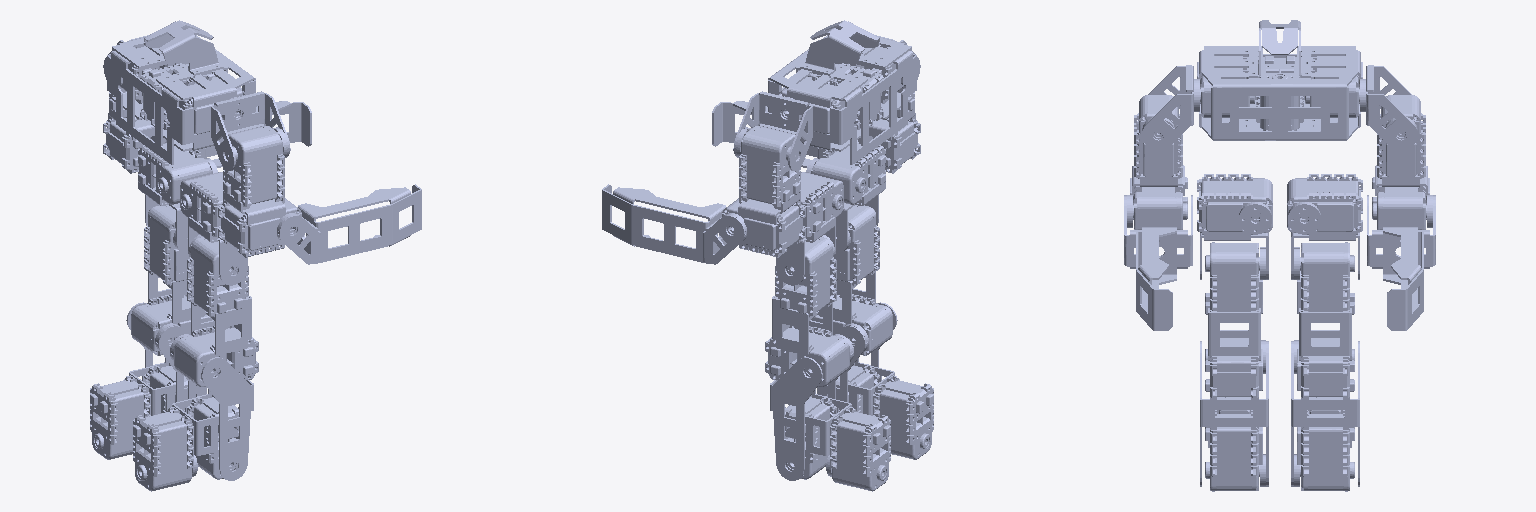
--- What the picture shows (computed from the rendered views, not written in the file) ---
Views: 3 orthographic renders of the robot side by side, from view 1: azimuth 30°, elevation 25°; view 2: azimuth 150°, elevation 25°; view 3: azimuth 270°, elevation 25°.
Robot: bioloid_gp2 — 18 links, 17 joints (17 continuous); root link base_link; default pose: every joint at zero.
Visible links, largest first — view 1: base_link, right_leg_link_2, right_arm_link_2, right_leg_link_4, right_arm_link_3, left_leg_link_2, left_leg_link_4, right_leg_link_3, left_leg_link_1, right_leg_link_1, right_arm_link_1, left_arm_link_2 (+2 smaller); view 2: base_link, left_leg_link_2, left_arm_link_2, left_leg_link_4, left_arm_link_3, right_leg_link_2, right_leg_link_4, left_leg_link_3, right_leg_link_1, left_leg_link_1, left_arm_link_1, right_arm_link_2 (+2 smaller); view 3: base_link, left_leg_link_2, right_leg_link_2, right_arm_link_2, left_arm_link_2, right_leg_link_1, left_leg_link_1, left_arm_link_3, right_arm_link_3, right_leg_link_4, left_leg_link_4, right_arm_link_1 (+3 smaller).
Boxes of the visible links, left/top/right/bottom form: base_link: left=107, top=20, right=255, bottom=164; right_leg_link_2: left=171, top=235, right=258, bottom=386; right_arm_link_2: left=218, top=126, right=301, bottom=257; right_leg_link_4: left=133, top=395, right=238, bottom=491; right_arm_link_3: left=278, top=184, right=421, bottom=264; left_leg_link_2: left=131, top=205, right=212, bottom=355; left_leg_link_4: left=90, top=363, right=187, bottom=459; right_leg_link_3: left=170, top=334, right=253, bottom=480; left_leg_link_1: left=138, top=143, right=217, bottom=253; right_leg_link_1: left=180, top=172, right=247, bottom=285; right_arm_link_1: left=211, top=91, right=289, bottom=170; left_arm_link_2: left=103, top=92, right=165, bottom=173; base_link: left=768, top=20, right=916, bottom=164; left_leg_link_2: left=765, top=235, right=852, bottom=386; left_arm_link_2: left=722, top=126, right=805, bottom=257; left_leg_link_4: left=785, top=395, right=890, bottom=491; left_arm_link_3: left=602, top=184, right=745, bottom=264; right_leg_link_2: left=811, top=205, right=892, bottom=355; right_leg_link_4: left=836, top=363, right=933, bottom=459; left_leg_link_3: left=770, top=334, right=853, bottom=480; right_leg_link_1: left=806, top=143, right=885, bottom=253; left_leg_link_1: left=776, top=172, right=843, bottom=285; left_arm_link_1: left=734, top=91, right=812, bottom=170; right_arm_link_2: left=858, top=92, right=920, bottom=173; base_link: left=1194, top=20, right=1365, bottom=140; left_leg_link_2: left=1294, top=242, right=1354, bottom=400; right_leg_link_2: left=1205, top=242, right=1265, bottom=400; right_arm_link_2: left=1127, top=95, right=1187, bottom=229; left_arm_link_2: left=1372, top=95, right=1432, bottom=229; right_leg_link_1: left=1197, top=174, right=1272, bottom=279; left_leg_link_1: left=1287, top=174, right=1362, bottom=279; left_arm_link_3: left=1367, top=195, right=1435, bottom=330; right_arm_link_3: left=1124, top=195, right=1192, bottom=330; right_leg_link_4: left=1205, top=397, right=1265, bottom=491; left_leg_link_4: left=1294, top=397, right=1354, bottom=491; right_arm_link_1: left=1142, top=65, right=1193, bottom=149.
Size in the robot's own frame: 0.1955 by 0.204 by 0.3281 metres.
15 mesh visuals loaded from 18 distinct referenced files (15 binary STL); not drawn: 3 (reference not matched to a file when rendering).

The robot description file, URDF, robot "bioloid_gp2":
<?xml version="1.0" encoding="utf-8"?>
<!-- This URDF was automatically created by SolidWorks to URDF Exporter! Originally created by Stephen Brawner ([email redacted]) 
     Commit Version: 1.5.1-0-g916b5db  Build Version: 1.5.7152.31018
     For more information, please see http://wiki.ros.org/sw_urdf_exporter -->
<robot
  name="bioloid_gp2">
  <link
    name="base_link">
    <inertial>
      <origin
        xyz="-0.00383149781672336 -8.90176803828094E-06 0.000985343148474867"
        rpy="0 0 0" />
      <mass
        value="0.154876147614574" />
      <inertia
        ixx="5.72237172613389E-05"
        ixy="-1.0416203519941E-08"
        ixz="-3.9259029824417E-07"
        iyy="4.7371081001121E-05"
        iyz="1.46730564833216E-09"
        izz="7.19614573061766E-05" />
    </inertial>
    <visual>
      <origin
        xyz="0 0 0"
        rpy="0 0 0" />
      <geometry>
        <mesh
          filename="package://bioloid_gp2/meshes/base_link.STL" />
      </geometry>
      <material
        name="">
        <color
          rgba="0.792156862745098 0.819607843137255 0.933333333333333 1" />
      </material>
    </visual>
    <collision>
      <origin
        xyz="0 0 0"
        rpy="0 0 0" />
      <geometry>
        <mesh
          filename="package://bioloid_gp2/meshes/base_link.STL" />
      </geometry>
    </collision>
  </link>
  <link
    name="right_arm_link_1">
    <inertial>
      <origin
        xyz="-6.07043906669658E-08 -0.00923206723925007 0.00517864249850522"
        rpy="0 0 0" />
      <mass
        value="0.00402029367652139" />
      <inertia
        ixx="8.53462226825597E-07"
        ixy="1.70481192756118E-12"
        ixz="-1.05162131712554E-12"
        iyy="1.77130321667596E-06"
        iyz="2.51193243950453E-07"
        izz="1.69099459342747E-06" />
    </inertial>
    <visual>
      <origin
        xyz="0 0 0"
        rpy="0 0 0" />
      <geometry>
        <mesh
          filename="package://bioloid_gp2/meshes/right_arm_link_1.STL" />
      </geometry>
      <material
        name="">
        <color
          rgba="0.792156862745098 0.819607843137255 0.933333333333333 1" />
      </material>
    </visual>
    <collision>
      <origin
        xyz="0 0 0"
        rpy="0 0 0" />
      <geometry>
        <mesh
          filename="package://bioloid_gp2/meshes/right_arm_link_1.STL" />
      </geometry>
    </collision>
  </link>
  <joint
    name="joint_1"
    type="continuous">
    <origin
      xyz="0.00875 -0.05649 0.00275"
      rpy="3.1416 0 3.1416" />
    <parent
      link="base_link" />
    <child
      link="right_arm_link_1" />
    <axis
      xyz="0 1 0" />
    <safety_controller
      k_velocity="0" />
  </joint>
  <link
    name="right_arm_link_2">
    <inertial>
      <origin
        xyz="-0.000528170386428509 -0.0352518252774792 0.00311828556966413"
        rpy="0 0 0" />
      <mass
        value="0.0866430294972451" />
      <inertia
        ixx="2.18652500161555E-05"
        ixy="-8.94831167760345E-09"
        ixz="-1.89458955070911E-07"
        iyy="1.84666066901423E-05"
        iyz="2.01342587194597E-07"
        izz="1.66635512730656E-05" />
    </inertial>
    <visual>
      <origin
        xyz="0 0 0"
        rpy="0 0 0" />
      <geometry>
        <mesh
          filename="package://bioloid_gp2/meshes/right_arm_link_2.STL" />
      </geometry>
      <material
        name="">
        <color
          rgba="0.792156862745098 0.819607843137255 0.933333333333333 1" />
      </material>
    </visual>
    <collision>
      <origin
        xyz="0 0 0"
        rpy="0 0 0" />
      <geometry>
        <mesh
          filename="package://bioloid_gp2/meshes/right_arm_link_2.STL" />
      </geometry>
    </collision>
  </link>
  <joint
    name="joint_3"
    type="continuous">
    <origin
      xyz="0 -0.02301 0.018"
      rpy="-1.5708 0 1.5708" />
    <parent
      link="right_arm_link_1" />
    <child
      link="right_arm_link_2" />
    <axis
      xyz="0 0 1" />
    <safety_controller
      k_velocity="0" />
  </joint>
  <link
    name="right_arm_link_3">
    <inertial>
      <origin
        xyz="0.00415752095634411 0.0477168328995842 -0.01632646307713"
        rpy="0 0 0" />
      <mass
        value="0.0124405169193281" />
      <inertia
        ixx="1.01511820933173E-05"
        ixy="-7.57219531539254E-09"
        ixz="-1.05248182571994E-12"
        iyy="3.65282468945606E-06"
        iyz="2.51193224626462E-07"
        izz="9.92898397139803E-06" />
    </inertial>
    <visual>
      <origin
        xyz="0 0 0"
        rpy="0 0 0" />
      <geometry>
        <mesh
          filename="package://bioloid_gp2/meshes/right_arm_link_3.STL" />
      </geometry>
      <material
        name="">
        <color
          rgba="0.792156862745098 0.819607843137255 0.933333333333333 1" />
      </material>
    </visual>
    <collision>
      <origin
        xyz="0 0 0"
        rpy="0 0 0" />
      <geometry>
        <mesh
          filename="package://bioloid_gp2/meshes/right_arm_link_3.STL" />
      </geometry>
    </collision>
  </link>
  <joint
    name="joint_5"
    type="continuous">
    <origin
      xyz="0 -0.0574 0.0182"
      rpy="1.5708 0 3.1416" />
    <parent
      link="right_arm_link_2" />
    <child
      link="right_arm_link_3" />
    <axis
      xyz="1 0 0" />
    <safety_controller
      k_velocity="0" />
  </joint>
  <link
    name="left_arm_link_1">
    <inertial>
      <origin
        xyz="-6.07043893208203E-08 -0.00923206723925157 0.00517864249850554"
        rpy="0 0 0" />
      <mass
        value="0.00402029367652142" />
      <inertia
        ixx="8.534622268256E-07"
        ixy="1.70481192931295E-12"
        ixz="-1.05162131770511E-12"
        iyy="1.77130321667597E-06"
        iyz="2.51193243950455E-07"
        izz="1.69099459342748E-06" />
    </inertial>
    <visual>
      <origin
        xyz="0 0 0"
        rpy="0 0 0" />
      <geometry>
        <mesh
          filename="package://bioloid_gp2/meshes/left_arm_link_1.STL" />
      </geometry>
      <material
        name="">
        <color
          rgba="0.792156862745098 0.819607843137255 0.933333333333333 1" />
      </material>
    </visual>
    <collision>
      <origin
        xyz="0 0 0"
        rpy="0 0 0" />
      <geometry>
        <mesh
          filename="package://bioloid_gp2/meshes/left_arm_link_1.STL" />
      </geometry>
    </collision>
  </link>
  <joint
    name="joint_2"
    type="continuous">
    <origin
      xyz="0.00874999999999918 0.0564904194241643 0.00275"
      rpy="3.14159265358979 0 0" />
    <parent
      link="base_link" />
    <child
      link="left_arm_link_1" />
    <axis
      xyz="0 1 0" />
    <safety_controller
      k_velocity="0" />
  </joint>
  <link
    name="left_arm_link_2">
    <inertial>
      <origin
        xyz="0.00049634853098135 -0.0352836471329275 0.00311828556966444"
        rpy="0 0 0" />
      <mass
        value="0.086643029497245" />
      <inertia
        ixx="2.18652500161555E-05"
        ixy="-8.94831167760709E-09"
        ixz="1.92394275517003E-07"
        iyy="1.84666066901423E-05"
        iyz="1.80510643393301E-07"
        izz="1.66635512730656E-05" />
    </inertial>
    <visual>
      <origin
        xyz="0 0 0"
        rpy="0 0 0" />
      <geometry>
        <mesh
          filename="package://bioloid_gp2/meshes/left_arm_link_2.STL" />
      </geometry>
      <material
        name="">
        <color
          rgba="0.792156862745098 0.819607843137255 0.933333333333333 1" />
      </material>
    </visual>
    <collision>
      <origin
        xyz="0 0 0"
        rpy="0 0 0" />
      <geometry>
        <mesh
          filename="package://bioloid_gp2/meshes/left_arm_link_2.STL" />
      </geometry>
    </collision>
  </link>
  <joint
    name="joint_4"
    type="continuous">
    <origin
      xyz="0 -0.0230095805758357 0.0179999999999895"
      rpy="-1.5707963267949 0 -1.5707963267949" />
    <parent
      link="left_arm_link_1" />
    <child
      link="left_arm_link_2" />
    <axis
      xyz="0 0 1" />
    <safety_controller
      k_velocity="0" />
  </joint>
  <link
    name="left_arm_link_3">
    <inertial>
      <origin
        xyz="-0.00415756019096623 0.0477168328995842 -0.01632646319197"
        rpy="0 0 0" />
      <mass
        value="0.0124405169193281" />
      <inertia
        ixx="1.01511820933173E-05"
        ixy="7.5756049392595E-09"
        ixz="-1.05248182347035E-12"
        iyy="3.65282468945605E-06"
        iyz="2.51193263274455E-07"
        izz="9.92898397139804E-06" />
    </inertial>
    <visual>
      <origin
        xyz="0 0 0"
        rpy="0 0 0" />
      <geometry>
        <mesh
          filename="package://bioloid_gp2/meshes/left_arm_link_3.STL" />
      </geometry>
      <material
        name="">
        <color
          rgba="0.792156862745098 0.819607843137255 0.933333333333333 1" />
      </material>
    </visual>
    <collision>
      <origin
        xyz="0 0 0"
        rpy="0 0 0" />
      <geometry>
        <mesh
          filename="package://bioloid_gp2/meshes/left_arm_link_3.STL" />
      </geometry>
    </collision>
  </link>
  <joint
    name="joint_6"
    type="continuous">
    <origin
      xyz="0 -0.0573999999999997 0.0182000000000009"
      rpy="1.5707963267949 0 3.14159265358979" />
    <parent
      link="left_arm_link_2" />
    <child
      link="left_arm_link_3" />
    <axis
      xyz="1 0 0" />
    <safety_controller
      k_velocity="0" />
  </joint>
  <link
    name="torso_link">
    <inertial>
      <origin
        xyz="2.63162408644171E-08 -0.0210909555658786 -0.00131922984856178"
        rpy="0 0 0" />
      <mass
        value="0.0150306588580905" />
      <inertia
        ixx="1.22995746902599E-05"
        ixy="-5.36004121723515E-12"
        ixz="4.57562055736353E-15"
        iyy="1.26743899445148E-05"
        iyz="-4.84169136516331E-07"
        izz="1.42781332295548E-05" />
    </inertial>
    <visual>
      <origin
        xyz="0 0 0"
        rpy="0 0 0" />
      <geometry>
        <mesh
          filename="package://bioloid_gp2/meshes/torso_link.STL" />
      </geometry>
      <material
        name="">
        <color
          rgba="0.792156862745098 0.819607843137255 0.933333333333333 1" />
      </material>
    </visual>
    <collision>
      <origin
        xyz="0 0 0"
        rpy="0 0 0" />
      <geometry>
        <mesh
          filename="package://bioloid_gp2/meshes/torso_link.STL" />
      </geometry>
    </collision>
  </link>
  <joint
    name="joint_19"
    type="continuous">
    <origin
      xyz="0.00825 0 -0.02375"
      rpy="1.5708 0 1.5708" />
    <parent
      link="base_link" />
    <child
      link="torso_link" />
    <axis
      xyz="0 1 0" />
    <safety_controller
      k_velocity="0" />
  </joint>
  <link
    name="right_leg_link_1">
    <inertial>
      <origin
        xyz="-0.0130433690693261 -0.00232565548787901 0.000953577437985006"
        rpy="0 0 0" />
      <mass
        value="0.0465444227419532" />
      <inertia
        ixx="7.24109241174825E-06"
        ixy="5.52407893798032E-08"
        ixz="1.90926615293957E-07"
        iyy="1.32071311548595E-05"
        iyz="-1.46766022304701E-09"
        izz="1.18450916288587E-05" />
    </inertial>
    <visual>
      <origin
        xyz="0 0 0"
        rpy="0 0 0" />
      <geometry>
        <mesh
          filename="package://bioloid_gp2/meshes/right_leg_link_1.STL" />
      </geometry>
      <material
        name="">
        <color
          rgba="0.792156862745098 0.819607843137255 0.933333333333333 1" />
      </material>
    </visual>
    <collision>
      <origin
        xyz="0 0 0"
        rpy="0 0 0" />
      <geometry>
        <mesh
          filename="package://bioloid_gp2/meshes/right_leg_link_1.STL" />
      </geometry>
    </collision>
  </link>
  <joint
    name="joint_9"
    type="continuous">
    <origin
      xyz="-0.016 -0.0535 0"
      rpy="0 0 0" />
    <parent
      link="torso_link" />
    <child
      link="right_leg_link_1" />
    <axis
      xyz="0 0 1" />
    <safety_controller
      k_velocity="0" />
  </joint>
  <link
    name="right_leg_link_2">
    <inertial>
      <origin
        xyz="-0.0129843075496472 -0.0436689123978273 -0.000466568121460592"
        rpy="0 0 0" />
      <mass
        value="0.087395965925078" />
      <inertia
        ixx="2.07330711638692E-05"
        ixy="1.89458955070841E-07"
        ixz="-1.92394275516861E-07"
        iyy="1.89034952338267E-05"
        iyz="-7.78205227092139E-08"
        izz="1.89379045179429E-05" />
    </inertial>
    <visual>
      <origin
        xyz="0 0 0"
        rpy="0 0 0" />
      <geometry>
        <mesh
          filename="package://bioloid_gp2/meshes/right_leg_link_2.STL" />
      </geometry>
      <material
        name="">
        <color
          rgba="0.792156862745098 0.819607843137255 0.933333333333333 1" />
      </material>
    </visual>
    <collision>
      <origin
        xyz="0 0 0"
        rpy="0 0 0" />
      <geometry>
        <mesh
          filename="package://bioloid_gp2/meshes/right_leg_link_2.STL" />
      </geometry>
    </collision>
  </link>
  <joint
    name="joint_11"
    type="continuous">
    <origin
      xyz="0 -0.0417999999999986 0"
      rpy="0 0 0" />
    <parent
      link="right_leg_link_1" />
    <child
      link="right_leg_link_2" />
    <axis
      xyz="1 0 0" />
    <safety_controller
      k_velocity="0" />
  </joint>
  <link
    name="right_leg_link_3">
    <inertial>
      <origin
        xyz="0.0139999999999992 0.033556383206639 0.0151934897642461"
        rpy="0 0 0" />
      <mass
        value="0.00701486534628872" />
      <inertia
        ixx="5.15587753735927E-06"
        ixy="-9.04376589778931E-20"
        ixz="-3.24119254639499E-20"
        iyy="3.83307916350282E-06"
        iyz="-4.239878651166E-07"
        izz="7.34905050588703E-06" />
    </inertial>
    <visual>
      <origin
        xyz="0 0 0"
        rpy="0 0 0" />
      <geometry>
        <mesh
          filename="package://bioloid_gp2/meshes/right_leg_link_3.STL" />
      </geometry>
      <material
        name="">
        <color
          rgba="0.792156862745098 0.819607843137255 0.933333333333333 1" />
      </material>
    </visual>
    <collision>
      <origin
        xyz="0 0 0"
        rpy="0 0 0" />
      <geometry>
        <mesh
          filename="package://bioloid_gp2/meshes/right_leg_link_3.STL" />
      </geometry>
    </collision>
  </link>
  <joint
    name="joint_13"
    type="continuous">
    <origin
      xyz="0 -0.0744000000000003 -0.0145000000000005"
      rpy="0 0 3.14159265358979" />
    <parent
      link="right_leg_link_2" />
    <child
      link="right_leg_link_3" />
    <axis
      xyz="1 0 0" />
    <safety_controller
      k_velocity="0" />
  </joint>
  <link
    name="right_leg_link_4">
    <inertial>
      <origin
        xyz="-0.013367992566117 0.021128064175969 0.0130554015027962"
        rpy="0 0 0" />
      <mass
        value="0.0856772163480855" />
      <inertia
        ixx="2.17028956622458E-05"
        ixy="7.38199108927587E-20"
        ixz="-2.01342587194584E-07"
        iyy="2.20441592245027E-05"
        iyz="1.82085534033284E-07"
        izz="1.30559757952079E-05" />
    </inertial>
    <visual>
      <origin
        xyz="0 0 0"
        rpy="0 0 0" />
      <geometry>
        <mesh
          filename="package://bioloid_gp2/meshes/right_leg_link_4.STL" />
      </geometry>
      <material
        name="">
        <color
          rgba="0.792156862745098 0.819607843137255 0.933333333333333 1" />
      </material>
    </visual>
    <collision>
      <origin
        xyz="0 0 0"
        rpy="0 0 0" />
      <geometry>
        <mesh
          filename="package://bioloid_gp2/meshes/right_leg_link_4.STL" />
      </geometry>
    </collision>
  </link>
  <joint
    name="joint_15"
    type="continuous">
    <origin
      xyz="0 0.0750000000000001 0.0145000000000001"
      rpy="-1.5707963267949 0 3.14159265358979" />
    <parent
      link="right_leg_link_3" />
    <child
      link="right_leg_link_4" />
    <axis
      xyz="1 0 0" />
    <safety_controller
      k_velocity="0" />
  </joint>
  <link
    name="right_leg_link_5">
    <inertial>
      <origin
        xyz="0.000199999992457706 -0.0271016298640743 0.00578156165290508"
        rpy="0 0 0" />
      <mass
        value="0.0145032303847988" />
      <inertia
        ixx="5.46558889534123E-06"
        ixy="6.68153427090938E-17"
        ixz="6.34590001966701E-16"
        iyy="1.36797822725631E-05"
        iyz="6.23593036481979E-15"
        izz="9.53948774258591E-06" />
    </inertial>
    <visual>
      <origin
        xyz="0 0 0"
        rpy="0 0 0" />
      <geometry>
        <mesh
          filename="package://bioloid_gp2/meshes/right_leg_link_5.STL" />
      </geometry>
      <material
        name="">
        <color
          rgba="0.792156862745098 0.819607843137255 0.933333333333333 1" />
      </material>
    </visual>
    <collision>
      <origin
        xyz="0 0 0"
        rpy="0 0 0" />
      <geometry>
        <mesh
          filename="package://bioloid_gp2/meshes/right_leg_link_5.STL" />
      </geometry>
    </collision>
  </link>
  <joint
    name="joint_17"
    type="continuous">
    <origin
      xyz="-0.0138000000000001 0 -9.99999999998225E-05"
      rpy="1.5707963267949 0 -1.5707963267949" />
    <parent
      link="right_leg_link_4" />
    <child
      link="right_leg_link_5" />
    <axis
      xyz="1 0 0" />
    <safety_controller
      k_velocity="0" />
  </joint>
  <link
    name="left_leg_link_1">
    <inertial>
      <origin
        xyz="-0.013043369069326 -0.0023848922728219 -0.000953577437985048"
        rpy="0 0 0" />
      <mass
        value="0.0465444227419532" />
      <inertia
        ixx="7.24109241174825E-06"
        ixy="3.44088455785098E-08"
        ixz="-1.90926615293941E-07"
        iyy="1.32071311548595E-05"
        iyz="-1.46766022304928E-09"
        izz="1.18450916288587E-05" />
    </inertial>
    <visual>
      <origin
        xyz="0 0 0"
        rpy="0 0 0" />
      <geometry>
        <mesh
          filename="package://bioloid_gp2/meshes/left_leg_link_1.STL" />
      </geometry>
      <material
        name="">
        <color
          rgba="0.792156862745098 0.819607843137255 0.933333333333333 1" />
      </material>
    </visual>
    <collision>
      <origin
        xyz="0 0 0"
        rpy="0 0 0" />
      <geometry>
        <mesh
          filename="package://bioloid_gp2/meshes/left_leg_link_1.STL" />
      </geometry>
    </collision>
  </link>
  <joint
    name="joint_10"
    type="continuous">
    <origin
      xyz="0.016 -0.0535000000000007 0"
      rpy="3.14159265358979 0 -3.14159265358979" />
    <parent
      link="torso_link" />
    <child
      link="left_leg_link_1" />
    <axis
      xyz="0 0 1" />
    <safety_controller
      k_velocity="0" />
  </joint>
  <link
    name="left_leg_link_2">
    <inertial>
      <origin
        xyz="0.0129843075495947 -0.0437004601006425 -0.000498115824281317"
        rpy="0 0 0" />
      <mass
        value="0.0873959659250778" />
      <inertia
        ixx="2.07330711638691E-05"
        ixy="-1.92394275517068E-07"
        ixz="1.89458955071036E-07"
        iyy="1.89034952338267E-05"
        iyz="-7.78205227092261E-08"
        izz="1.89379045179429E-05" />
    </inertial>
    <visual>
      <origin
        xyz="0 0 0"
        rpy="0 0 0" />
      <geometry>
        <mesh
          filename="package://bioloid_gp2/meshes/left_leg_link_2.STL" />
      </geometry>
      <material
        name="">
        <color
          rgba="0.792156862745098 0.819607843137255 0.933333333333333 1" />
      </material>
    </visual>
    <collision>
      <origin
        xyz="0 0 0"
        rpy="0 0 0" />
      <geometry>
        <mesh
          filename="package://bioloid_gp2/meshes/left_leg_link_2.STL" />
      </geometry>
    </collision>
  </link>
  <joint
    name="joint_12"
    type="continuous">
    <origin
      xyz="0 -0.0418000000000006 0"
      rpy="3.14159265358979 0 -3.14159265358979" />
    <parent
      link="left_leg_link_1" />
    <child
      link="left_leg_link_2" />
    <axis
      xyz="1 0 0" />
    <safety_controller
      k_velocity="0" />
  </joint>
  <link
    name="left_leg_link_3">
    <inertial>
      <origin
        xyz="-0.0140000000000142 0.033556383206639 0.0151934897642235"
        rpy="0 0 0" />
      <mass
        value="0.00701486534628871" />
      <inertia
        ixx="5.15587753735929E-06"
        ixy="2.996523349632E-19"
        ixz="-2.11088970194296E-18"
        iyy="3.83307916350282E-06"
        iyz="-4.23987865116591E-07"
        izz="7.34905050588705E-06" />
    </inertial>
    <visual>
      <origin
        xyz="0 0 0"
        rpy="0 0 0" />
      <geometry>
        <mesh
          filename="package://bioloid_gp2/meshes/left_leg_link_3.STL" />
      </geometry>
      <material
        name="">
        <color
          rgba="0.792156862745098 0.819607843137255 0.933333333333333 1" />
      </material>
    </visual>
    <collision>
      <origin
        xyz="0 0 0"
        rpy="0 0 0" />
      <geometry>
        <mesh
          filename="package://bioloid_gp2/meshes/left_leg_link_3.STL" />
      </geometry>
    </collision>
  </link>
  <joint
    name="joint_14"
    type="continuous">
    <origin
      xyz="0 -0.0744 -0.0145000000000106"
      rpy="0 0 3.14159265358979" />
    <parent
      link="left_leg_link_2" />
    <child
      link="left_leg_link_3" />
    <axis
      xyz="1 0 0" />
    <safety_controller
      k_velocity="0" />
  </joint>
  <link
    name="left_leg_link_4">
    <inertial>
      <origin
        xyz="0.0134001731396108 0.0210958836024548 0.0130554015027964"
        rpy="0 0 0" />
      <mass
        value="0.0856772163480854" />
      <inertia
        ixx="2.17028956622458E-05"
        ixy="-2.49292768268405E-19"
        ixz="1.80510643393119E-07"
        iyy="2.20441592245027E-05"
        iyz="2.02917477834769E-07"
        izz="1.30559757952079E-05" />
    </inertial>
    <visual>
      <origin
        xyz="0 0 0"
        rpy="0 0 0" />
      <geometry>
        <mesh
          filename="package://bioloid_gp2/meshes/left_leg_link_4.STL" />
      </geometry>
      <material
        name="">
        <color
          rgba="0.792156862745098 0.819607843137255 0.933333333333333 1" />
      </material>
    </visual>
    <collision>
      <origin
        xyz="0 0 0"
        rpy="0 0 0" />
      <geometry>
        <mesh
          filename="package://bioloid_gp2/meshes/left_leg_link_4.STL" />
      </geometry>
    </collision>
  </link>
  <joint
    name="joint_16"
    type="continuous">
    <origin
      xyz="0 0.075 0.0144999999999907"
      rpy="-1.5707963267949 0 -3.14159265358979" />
    <parent
      link="left_leg_link_3" />
    <child
      link="left_leg_link_4" />
    <axis
      xyz="1 0 0" />
    <safety_controller
      k_velocity="0" />
  </joint>
  <link
    name="left_leg_link_5">
    <inertial>
      <origin
        xyz="-0.00019999999247397 0.0271016298640752 -0.00578156174805474"
        rpy="0 0 0" />
      <mass
        value="0.014503230384799" />
      <inertia
        ixx="5.46558889534131E-06"
        ixy="6.68360735623288E-17"
        ixz="-6.35559667906939E-16"
        iyy="1.36797822725632E-05"
        iyz="-6.23589271301141E-15"
        izz="9.53948774258595E-06" />
    </inertial>
    <visual>
      <origin
        xyz="0 0 0"
        rpy="0 0 0" />
      <geometry>
        <mesh
          filename="package://bioloid_gp2/meshes/left_leg_link_5.STL" />
      </geometry>
      <material
        name="">
        <color
          rgba="0.792156862745098 0.819607843137255 0.933333333333333 1" />
      </material>
    </visual>
    <collision>
      <origin
        xyz="0 0 0"
        rpy="0 0 0" />
      <geometry>
        <mesh
          filename="package://bioloid_gp2/meshes/left_leg_link_5.STL" />
      </geometry>
    </collision>
  </link>
  <joint
    name="joint_18"
    type="continuous">
    <origin
      xyz="0.0137999999999867 0 -9.9999999999989E-05"
      rpy="-1.5707963267949 0 1.5707963267949" />
    <parent
      link="left_leg_link_4" />
    <child
      link="left_leg_link_5" />
    <axis
      xyz="1 0 0" />
    <safety_controller
      k_velocity="0" />
  </joint>
</robot>
